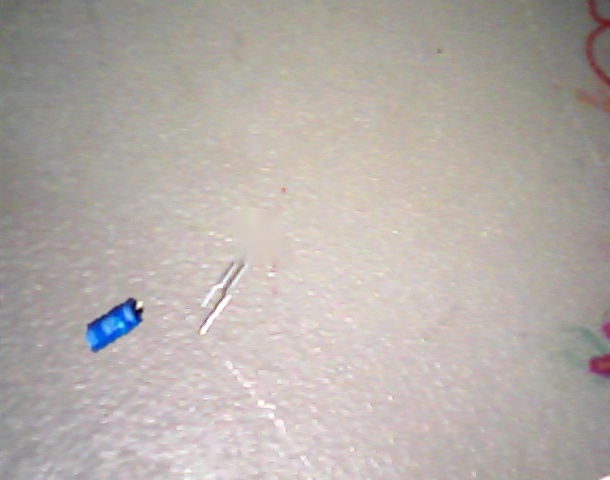capacitor: (85, 298, 144, 353)
